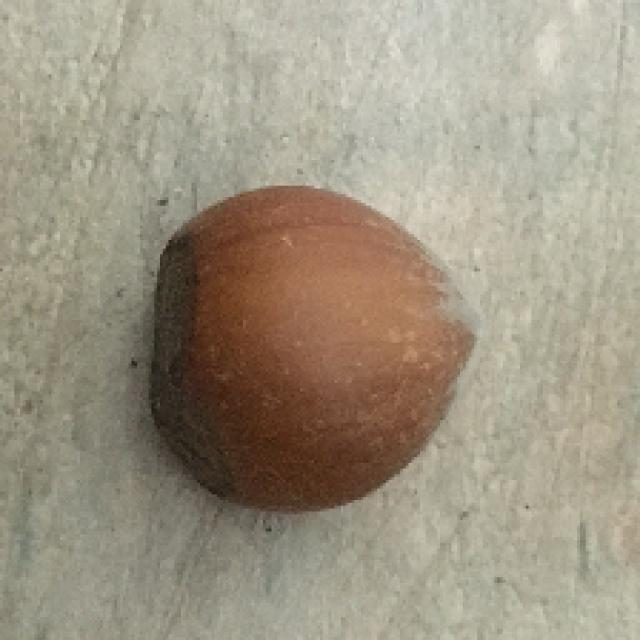QualityHazelnut: (153, 186, 483, 513)
